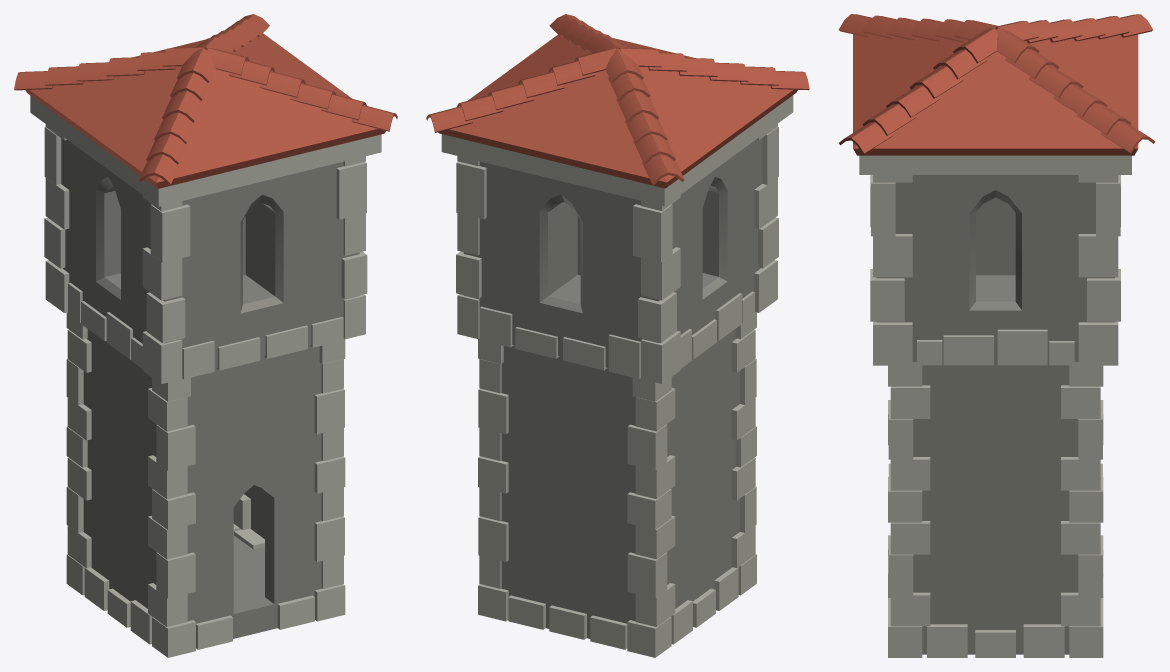
File: tower.glb
3 renders of one model, left to right at view 1: azimuth 30°, elevation 25°; view 2: azimuth 150°, elevation 25°; view 3: azimuth 270°, elevation 25°, orthographic. The views are drawn at different scales.
Visible parts, largest first — view 1: WatchTower_SecondAge_Level1; view 2: WatchTower_SecondAge_Level1; view 3: WatchTower_SecondAge_Level1.
Part boxes in pixels (x1,y1,x2,y2): WatchTower_SecondAge_Level1: (14,14,397,657); WatchTower_SecondAge_Level1: (426,14,809,657); WatchTower_SecondAge_Level1: (838,14,1155,657).
Size of the model in its own units: 0.5852 by 1.19 by 0.583.
